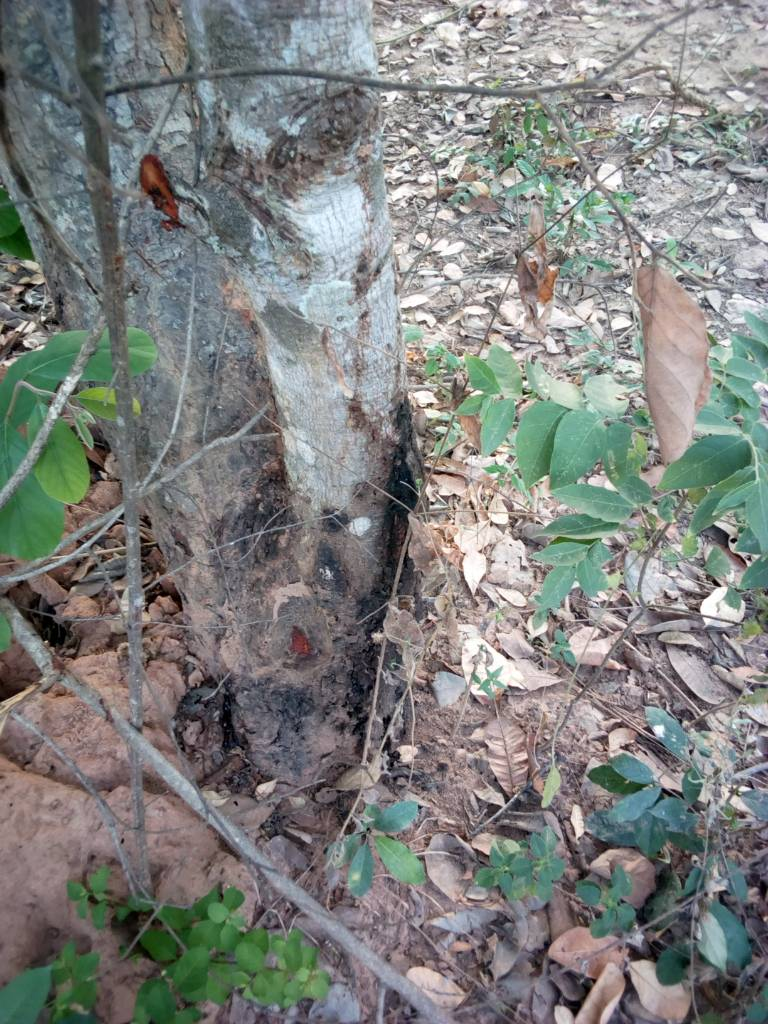Gommose: (357, 415, 418, 712), (221, 492, 355, 602)
